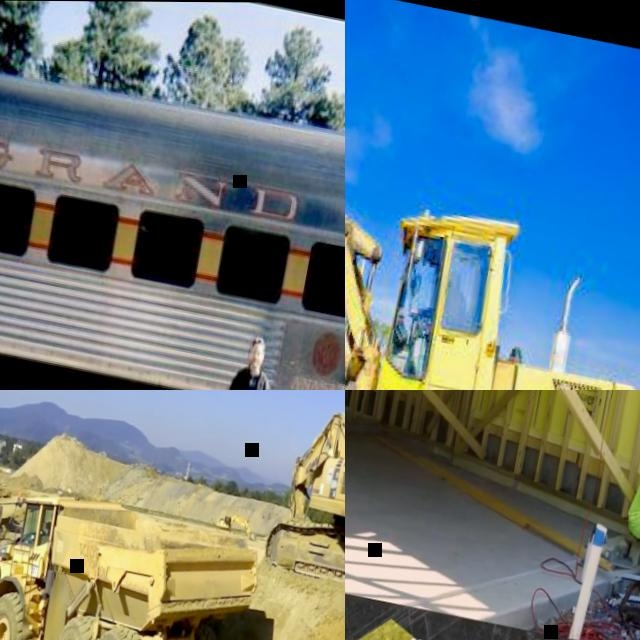NO-Hardhat: (251, 334, 267, 348)
NO-Mask: (248, 357, 260, 368)
NO-Safety Vest: (221, 366, 268, 390), (17, 491, 20, 498)
Person: (605, 406, 640, 632), (198, 329, 281, 390), (417, 266, 469, 334), (40, 511, 54, 539), (15, 489, 21, 503)
machinery: (345, 73, 640, 390), (0, 477, 268, 640), (259, 390, 345, 601), (215, 510, 256, 535)
